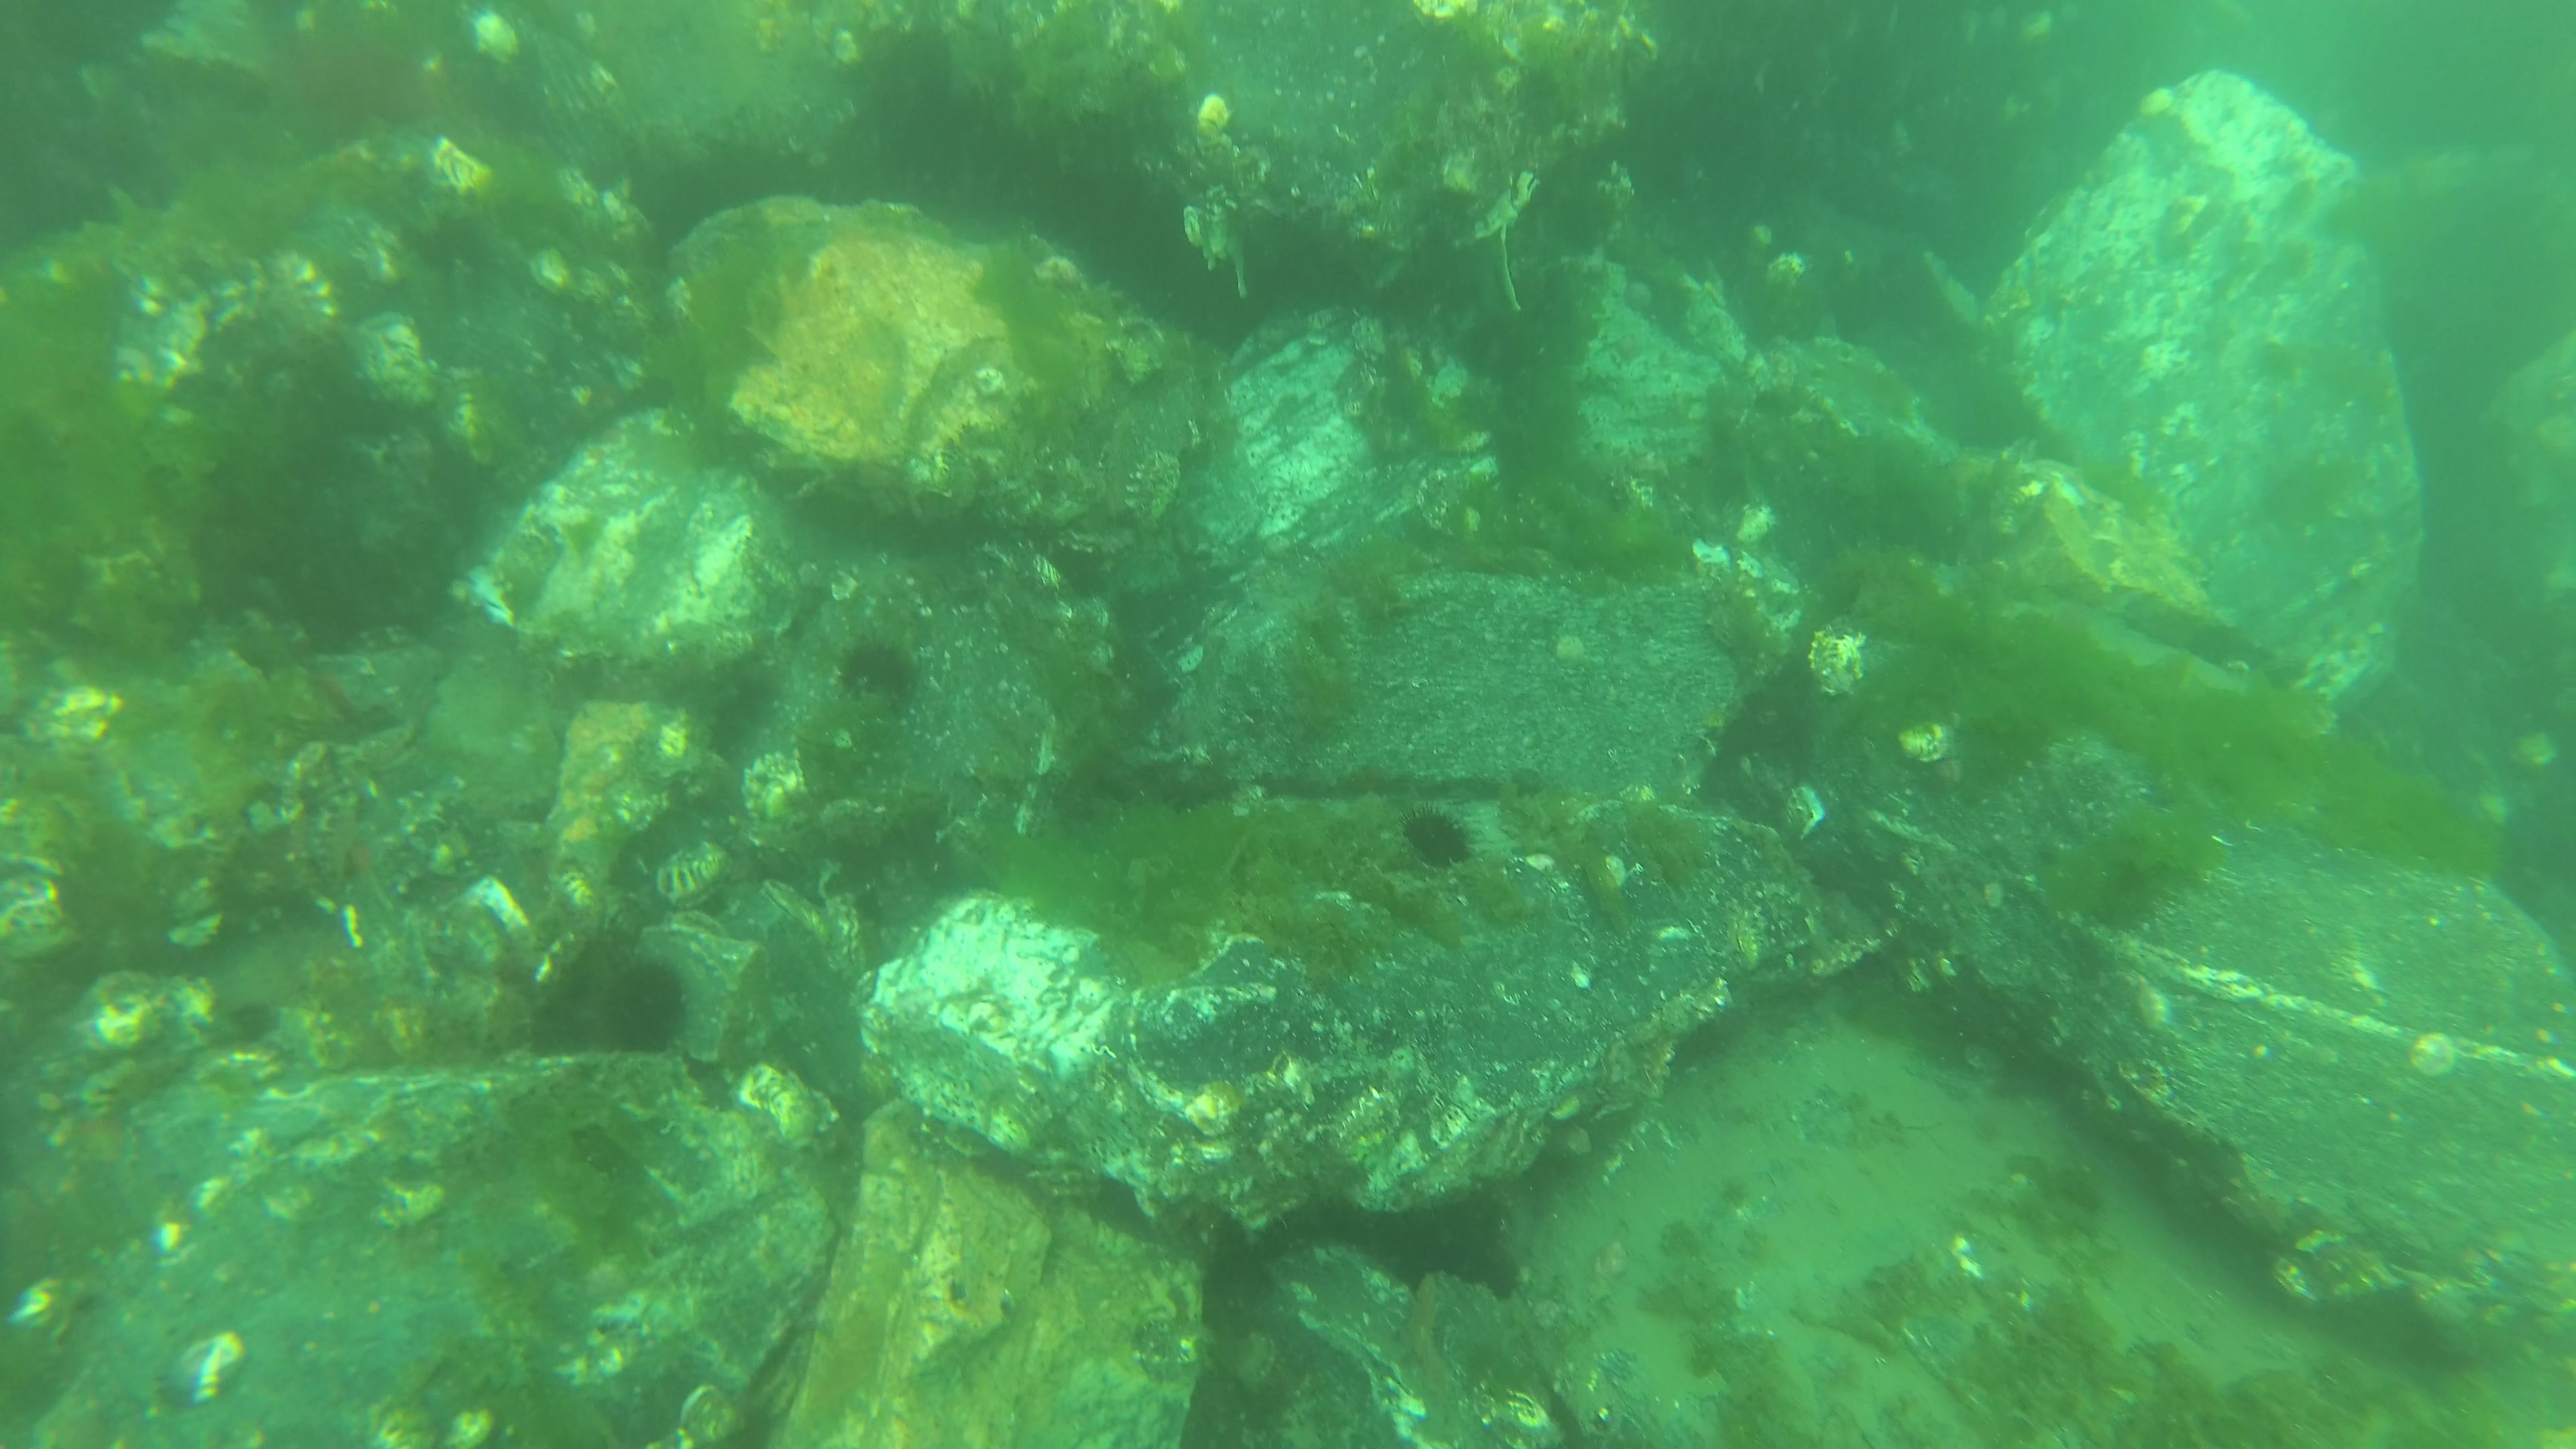echinus: (602, 959, 679, 1053), (839, 632, 913, 709), (1399, 809, 1477, 874), (418, 225, 494, 276)
